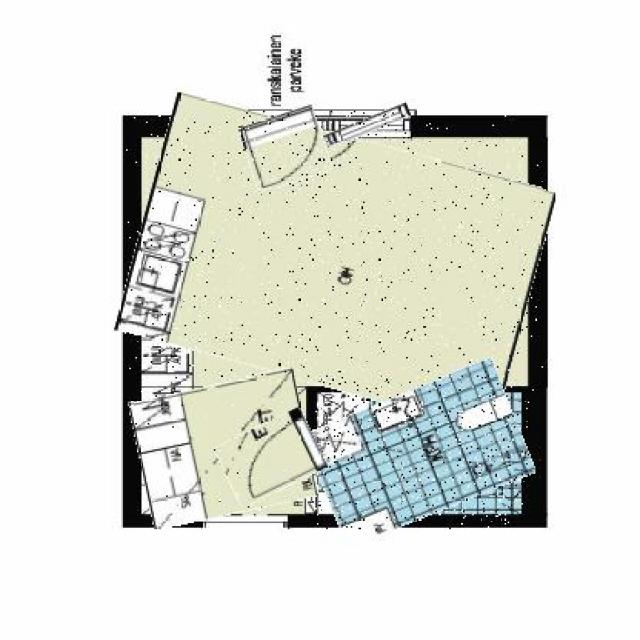door: (219, 415, 323, 497), (243, 110, 329, 188)
window: (323, 111, 412, 140)
zone: (126, 117, 543, 409), (311, 375, 529, 531), (134, 377, 314, 521)
